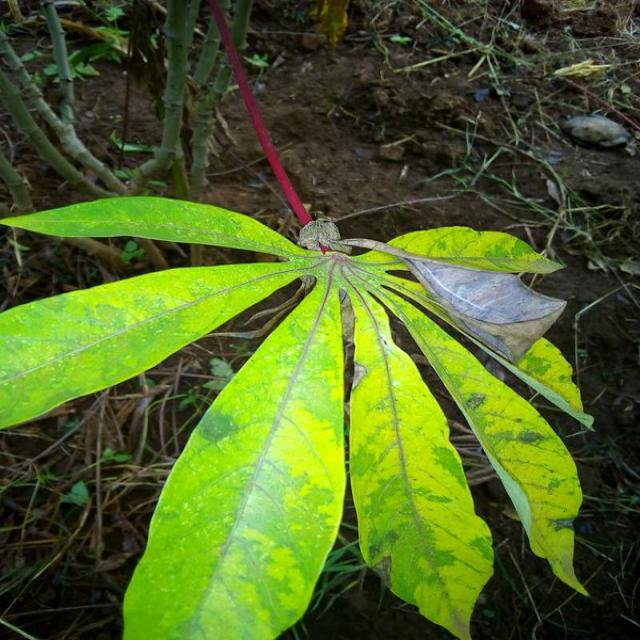cassava leaf: (1, 4, 593, 638), (121, 264, 346, 638), (346, 277, 494, 638)
